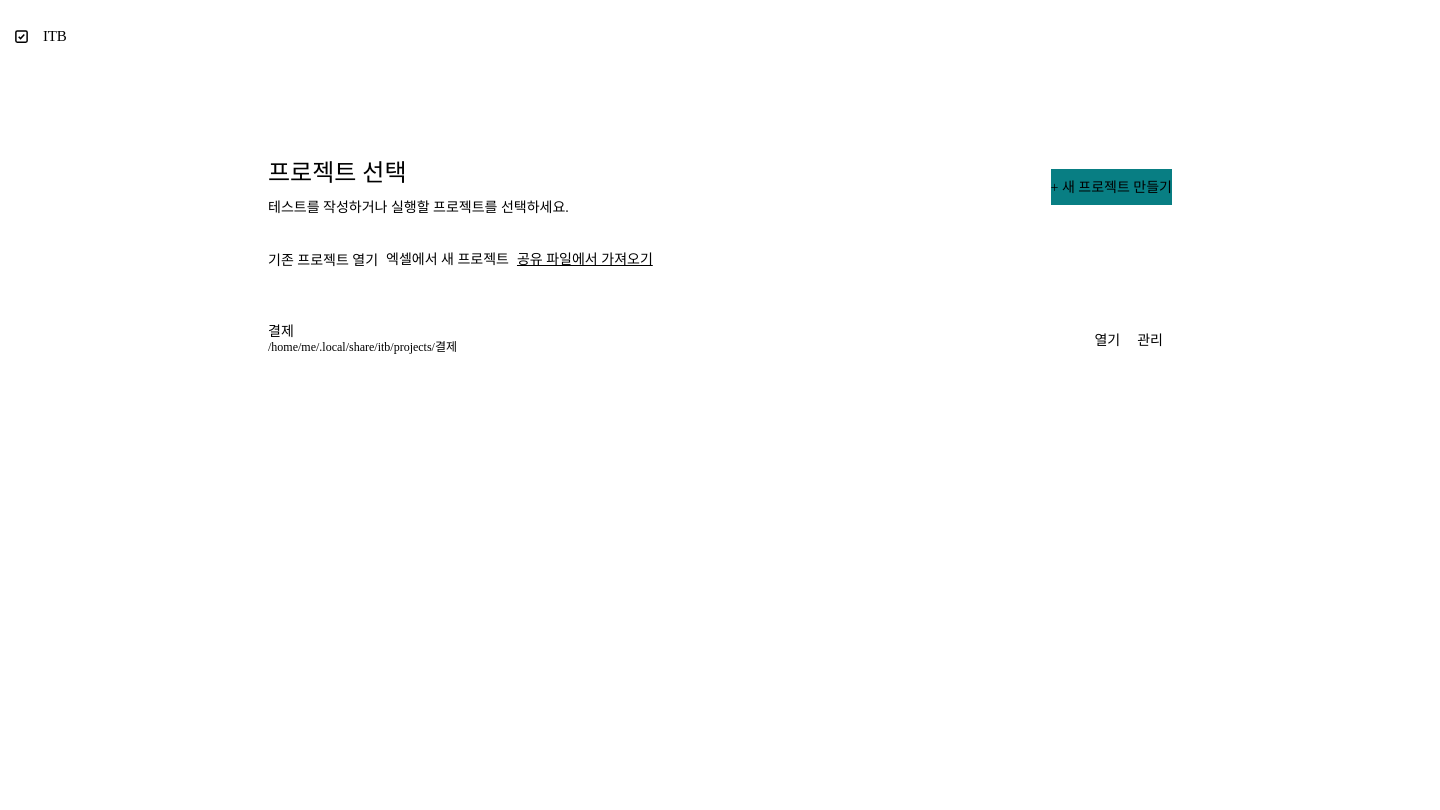
Test: 줄 상태 × 조작 (data-model §3) › 열기는 바로 보이고 관리에서 이름 바꾸기·삭제·목록에서 치우기를 연다
This screenshot has width=1440, height=810.
Check: the text "결제" is shown, box x1=268 y1=325 x2=294 y2=339
Check: the button "열기" is shown, box x1=1094 y1=329 x2=1120 y2=352
Click the button "관리".
click(1150, 340)  # box x1=1128 y1=322 x2=1172 y2=358
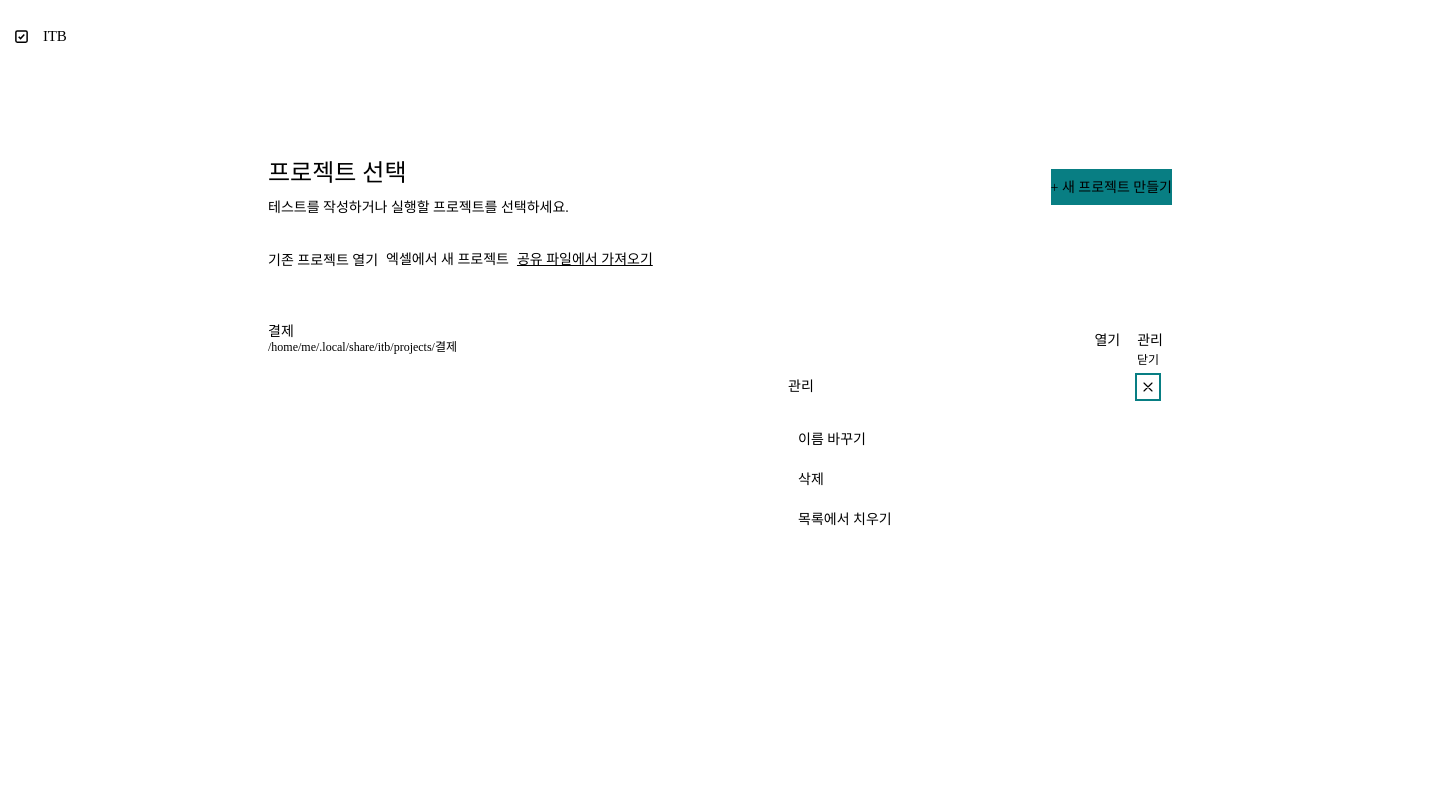
Check: the button "이름 바꾸기" is shown, box x1=788 y1=425 x2=1156 y2=453
Check: the button "삭제" is shown, box x1=788 y1=465 x2=1156 y2=493
Check: the button "목록에서 치우기" is shown, box x1=788 y1=505 x2=1156 y2=533
